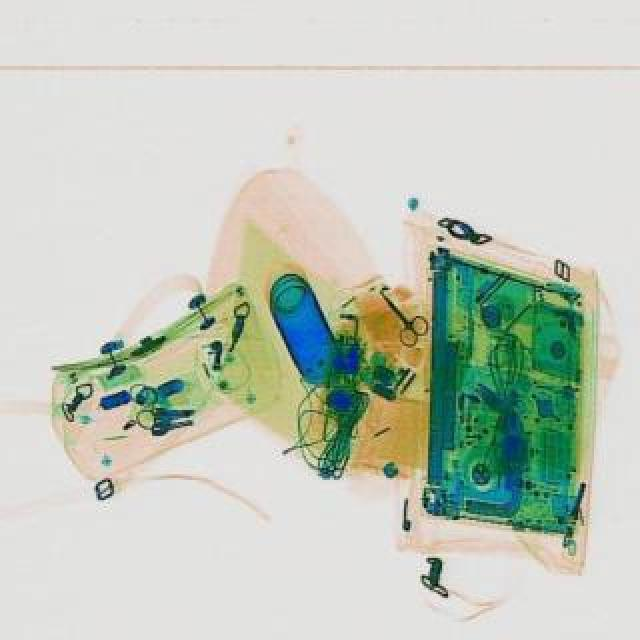pliers: (366, 282, 434, 348)
